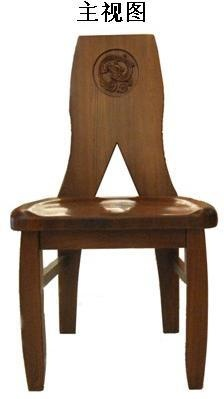obstacle: (11, 35, 216, 390)
